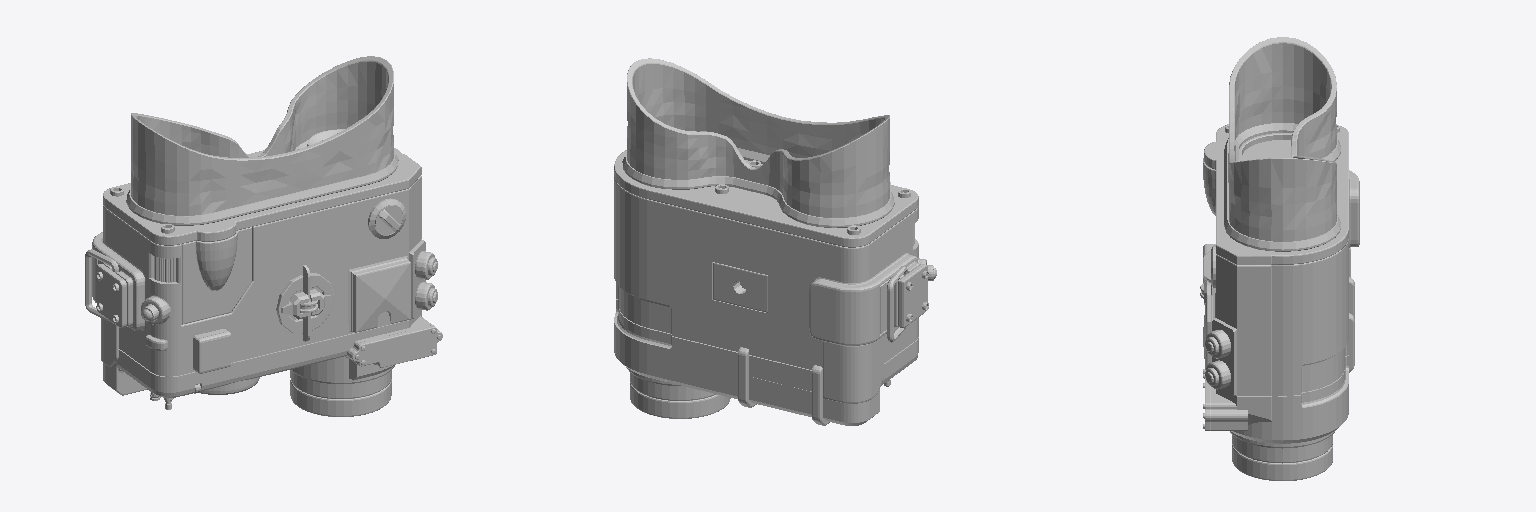
The model's file is Blade_Runner_2049.obj.
3 renders of one model, left to right at view 1: azimuth 30°, elevation 25°; view 2: azimuth 150°, elevation 25°; view 3: azimuth 270°, elevation 25°, orthographic.
Parts seen in each view (by area): view 1: mesh0_dat_desirefx_me__obj; view 2: mesh0_dat_desirefx_me__obj; view 3: mesh0_dat_desirefx_me__obj.
Part boxes in pixels (bbox=[...]): mesh0_dat_desirefx_me__obj: bbox=[85, 56, 442, 416]; mesh0_dat_desirefx_me__obj: bbox=[614, 58, 936, 425]; mesh0_dat_desirefx_me__obj: bbox=[1200, 37, 1359, 480].
Size of the model in its own units: 19.38 by 20 by 8.9.